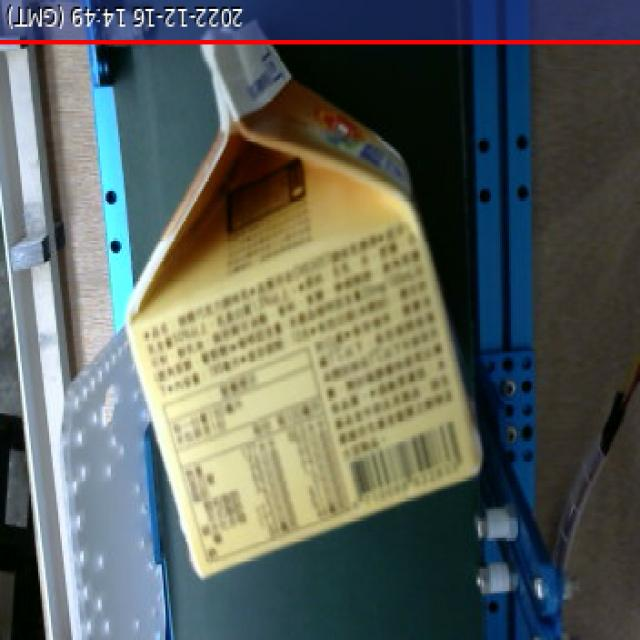non_white_jug: (108, 24, 504, 609)
